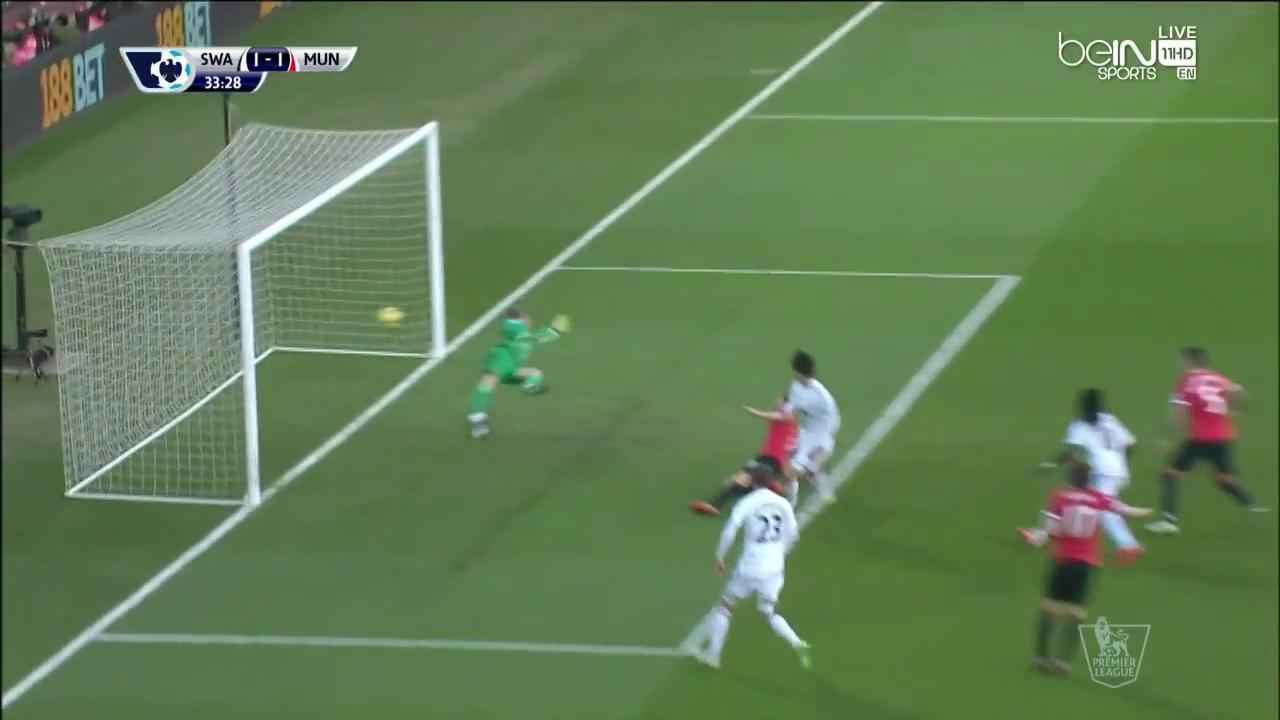football: (377, 305, 405, 329)
